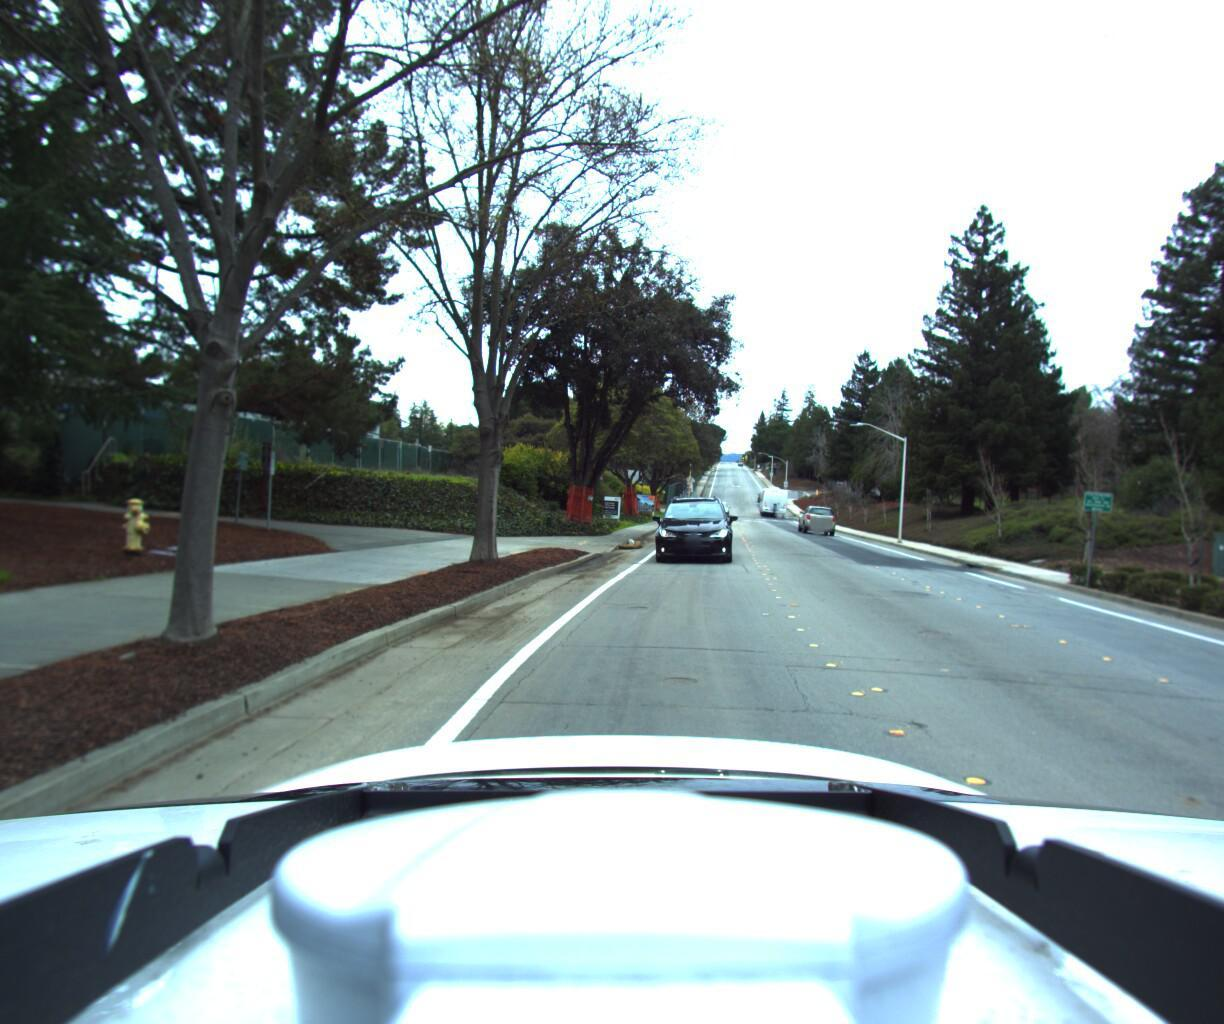car: (642, 482, 731, 569), (791, 502, 832, 537)
